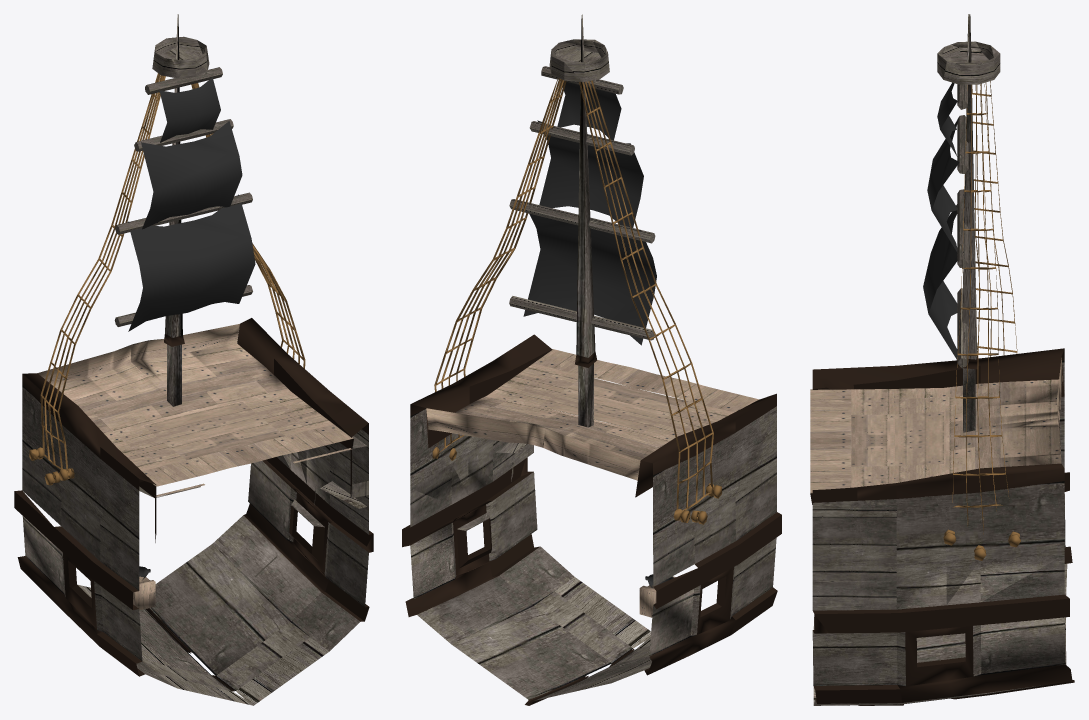
The model's file is Windward-Shipwreck4-Centered.glb.
3 renders of one model, left to right at view 1: azimuth 30°, elevation 25°; view 2: azimuth 150°, elevation 25°; view 3: azimuth 270°, elevation 25°, orthographic. The views are drawn at different scales.
Parts seen in each view (by area): view 1: Plane.003; view 2: Plane.003; view 3: Plane.003.
Part boxes in pixels (x1=…): Plane.003: x1=14, y1=14, x2=373, y2=705; Plane.003: x1=402, y1=14, x2=781, y2=705; Plane.003: x1=810, y1=14, x2=1074, y2=705.
Bounding box in the file's own units: 3.28 × 8.04 × 2.8.
Materials: 5 (2 with a texture image).
